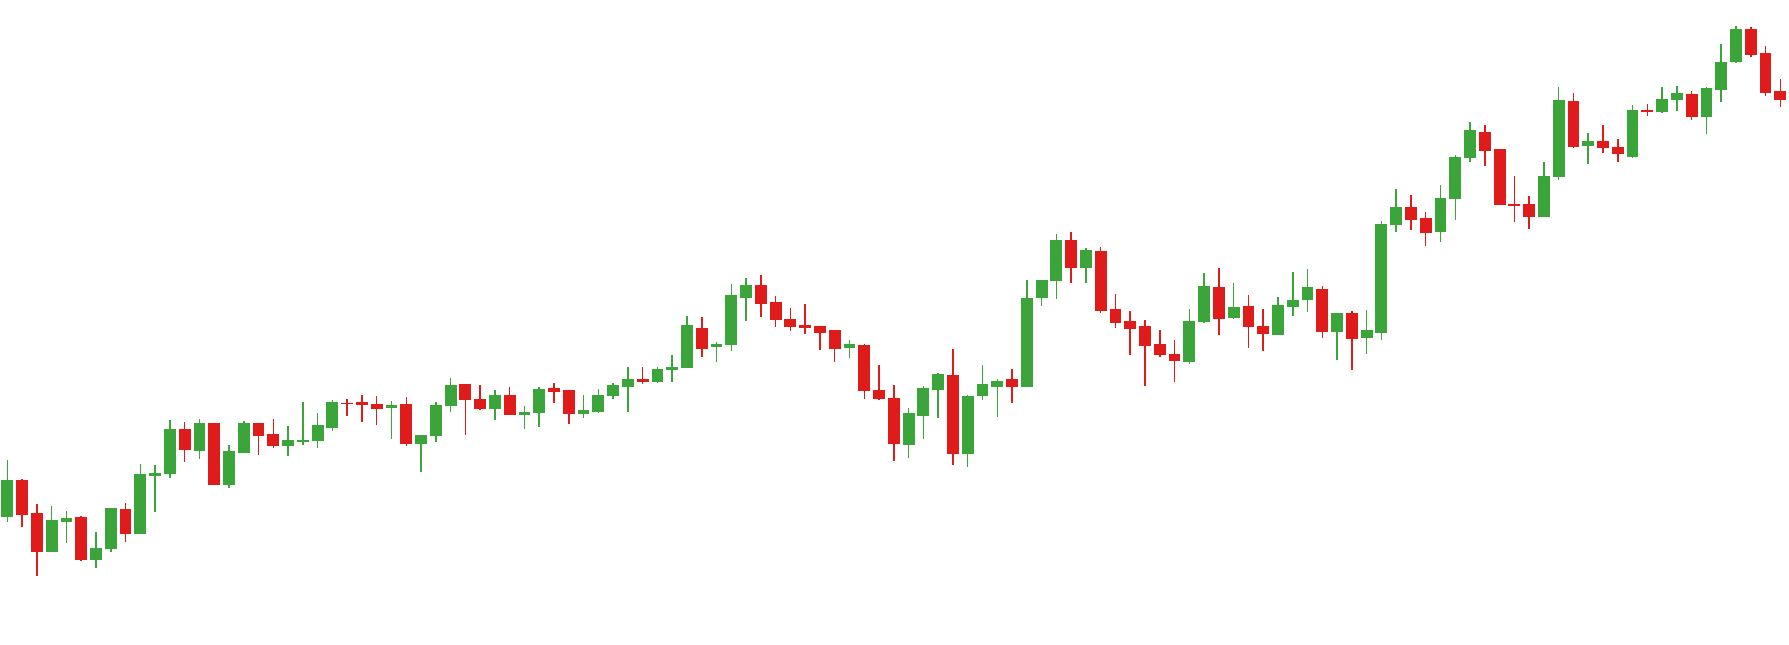buy: (1242, 311, 1358, 372)
